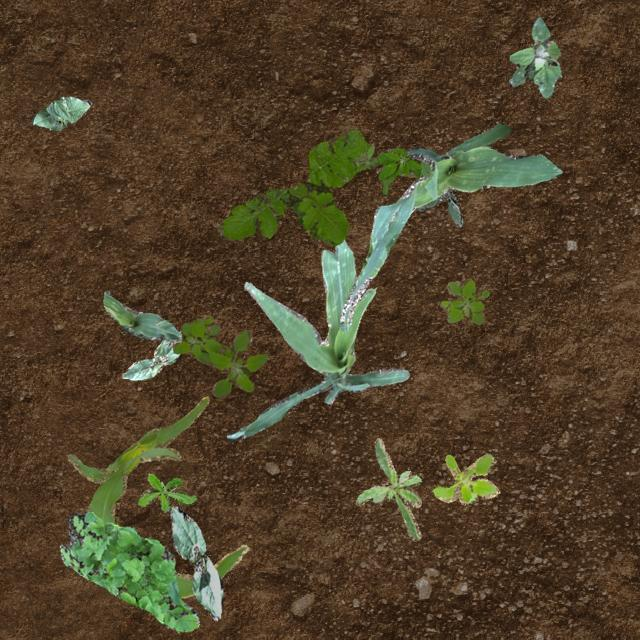crop: (338, 120, 562, 332), (225, 238, 408, 440), (66, 396, 248, 596), (168, 504, 222, 620), (101, 290, 180, 342), (120, 339, 178, 378), (30, 94, 90, 130)
weed: (216, 128, 370, 244), (58, 510, 198, 630), (172, 316, 266, 398), (354, 438, 420, 540), (508, 15, 560, 96), (412, 160, 462, 227), (432, 452, 498, 502), (352, 146, 422, 193), (137, 472, 196, 512), (439, 278, 488, 324)
